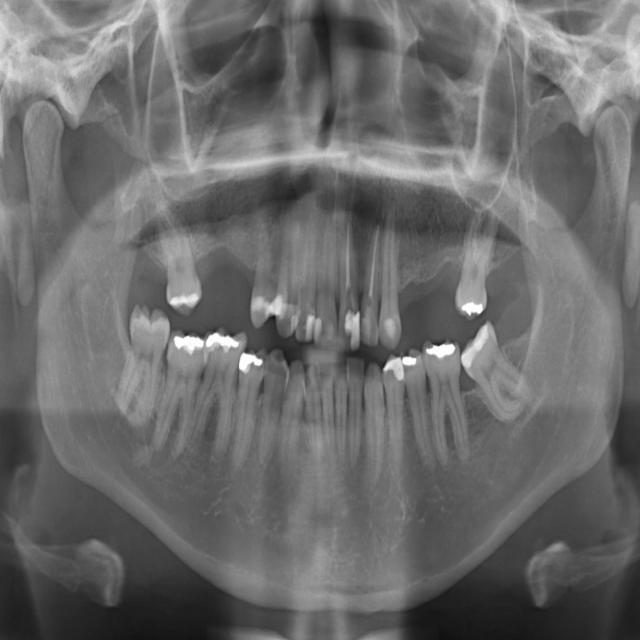AMerOss Implant: (420, 334, 474, 473)
Amalgam filling: (151, 187, 208, 322)
Anthogyr Implant: (399, 345, 443, 487)
Bicon Implant: (382, 352, 412, 483)
BioHorizons Implant: (363, 358, 387, 496)
BioLife Implant: (339, 355, 366, 474)
Biomet 3i Implant: (332, 361, 352, 476)
Blue Sky Bio Implant: (320, 362, 340, 467)
Camlog Implant: (303, 360, 324, 473)
Caries: (359, 213, 382, 348)
Composite filling: (269, 356, 311, 487)
Cowellmedi Implant: (247, 345, 291, 472)
Crown: (220, 341, 269, 477)
Dentatus Implant: (182, 320, 251, 463)
Dentis Implant: (149, 326, 211, 464)
Dentium Implant: (107, 297, 175, 433)
Filling: (246, 198, 284, 333)
Frontier Implant: (272, 172, 303, 343)
Hiossen Implant: (376, 191, 403, 352)
Implant: (313, 209, 344, 352)
Implant Direct: (294, 169, 322, 345)
Keystone Dental Implant: (333, 197, 360, 354)
Neodent Implant: (449, 189, 505, 326)
Neoss Implant: (445, 314, 546, 432)
